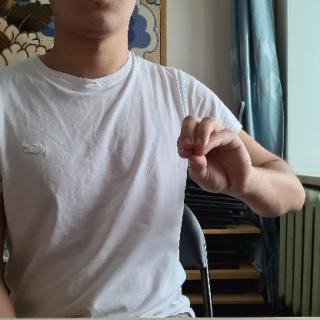HA: (171, 111, 258, 202)
